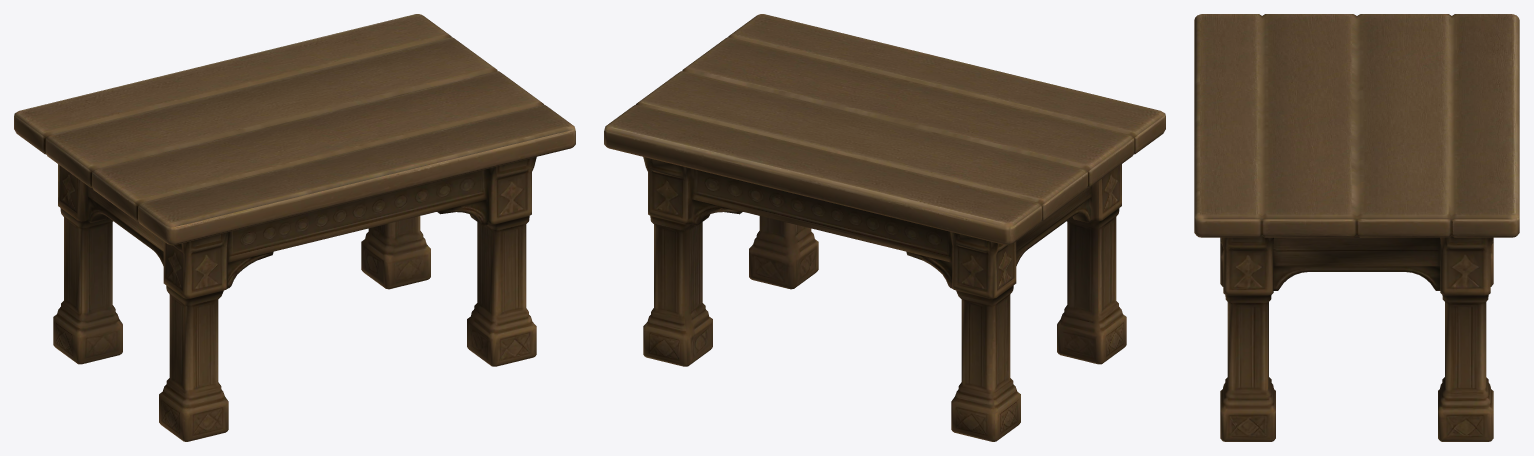
File: ancient_workshop_table_f07220b5_v1.glb
3 renders of one model, left to right at view 1: azimuth 30°, elevation 25°; view 2: azimuth 150°, elevation 25°; view 3: azimuth 270°, elevation 25°, orthographic. The views are drawn at different scales.
Parts seen in each view (by area): view 1: mesh_input; view 2: mesh_input; view 3: mesh_input.
Part boxes in pixels (x1=…): mesh_input: x1=14, y1=14, x2=575, y2=441; mesh_input: x1=604, y1=14, x2=1165, y2=441; mesh_input: x1=1194, y1=14, x2=1519, y2=441.
Size of the model in its own units: 1.9 by 1.04 by 1.27.
Materials: 1 (1 with a texture image).
